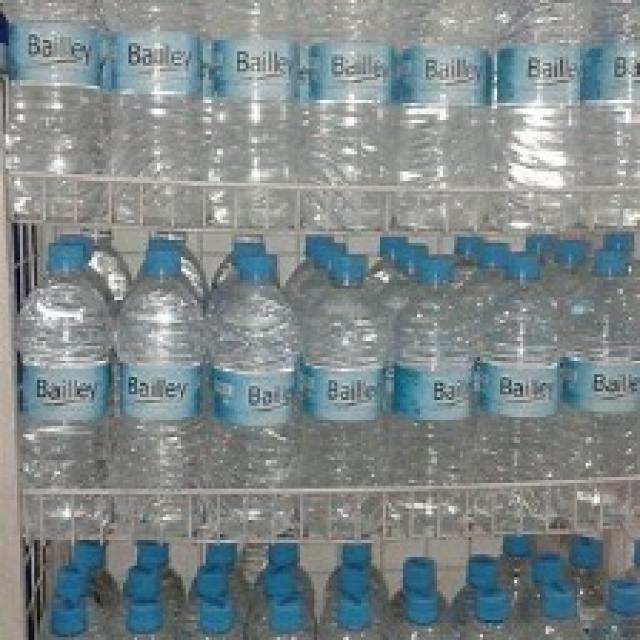plastic_bottle: (119, 231, 205, 532), (22, 238, 109, 531), (474, 255, 570, 518), (389, 1, 495, 224), (109, 1, 210, 230), (306, 259, 390, 530), (304, 1, 401, 234), (210, 5, 310, 230), (216, 241, 294, 526), (6, 3, 112, 207), (490, 1, 587, 218), (404, 253, 480, 518), (569, 253, 640, 510)
